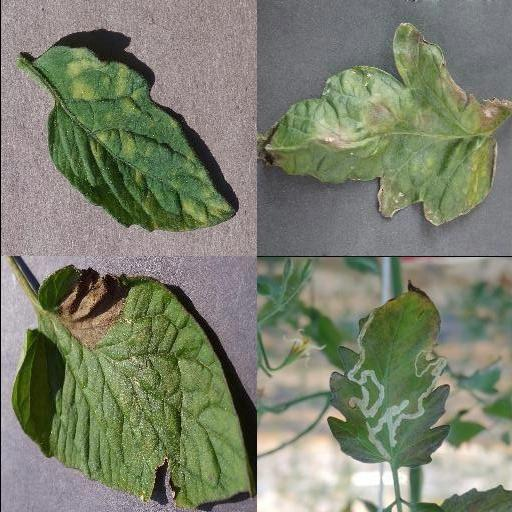Late Blight: (13, 264, 255, 508), (256, 22, 512, 228)
Leaf Miner: (324, 277, 450, 470)
Leaf Mold: (31, 45, 235, 234)
